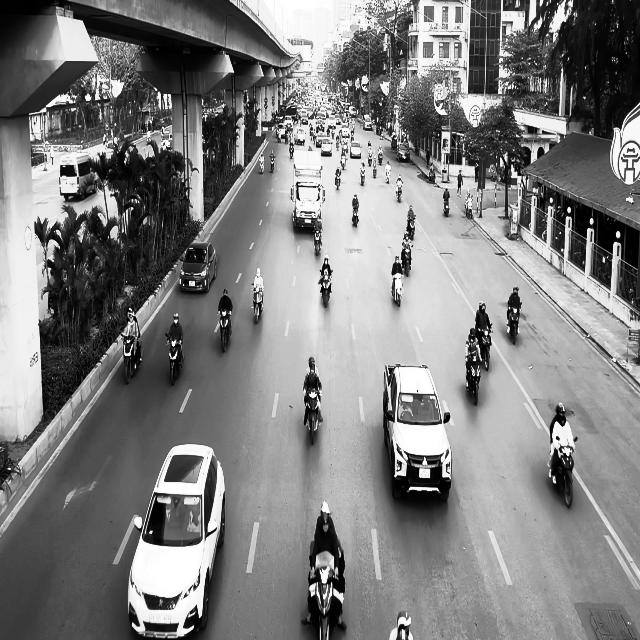bus: (59, 151, 96, 201)
car: (128, 442, 226, 638), (383, 363, 453, 501), (179, 242, 217, 293), (396, 142, 410, 162), (350, 140, 362, 158)
motorbike: (548, 436, 578, 507), (120, 332, 143, 384), (166, 333, 185, 386), (304, 389, 322, 444), (465, 356, 482, 405), (478, 328, 493, 371), (507, 302, 522, 344), (218, 308, 232, 352), (319, 270, 332, 308), (252, 284, 264, 324), (392, 272, 404, 306), (401, 244, 413, 276), (313, 222, 323, 254), (407, 215, 416, 240), (465, 196, 473, 218), (396, 181, 404, 203), (443, 194, 450, 217), (352, 204, 359, 226), (335, 171, 341, 190), (372, 158, 378, 177), (360, 168, 366, 185), (270, 152, 275, 172), (259, 158, 265, 174), (385, 168, 391, 184), (290, 141, 294, 158)
truck: (291, 149, 326, 233)
